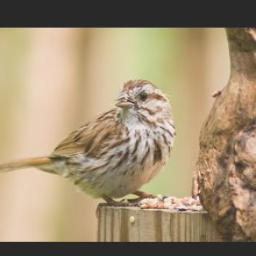Sparrow: (0, 77, 177, 219)
